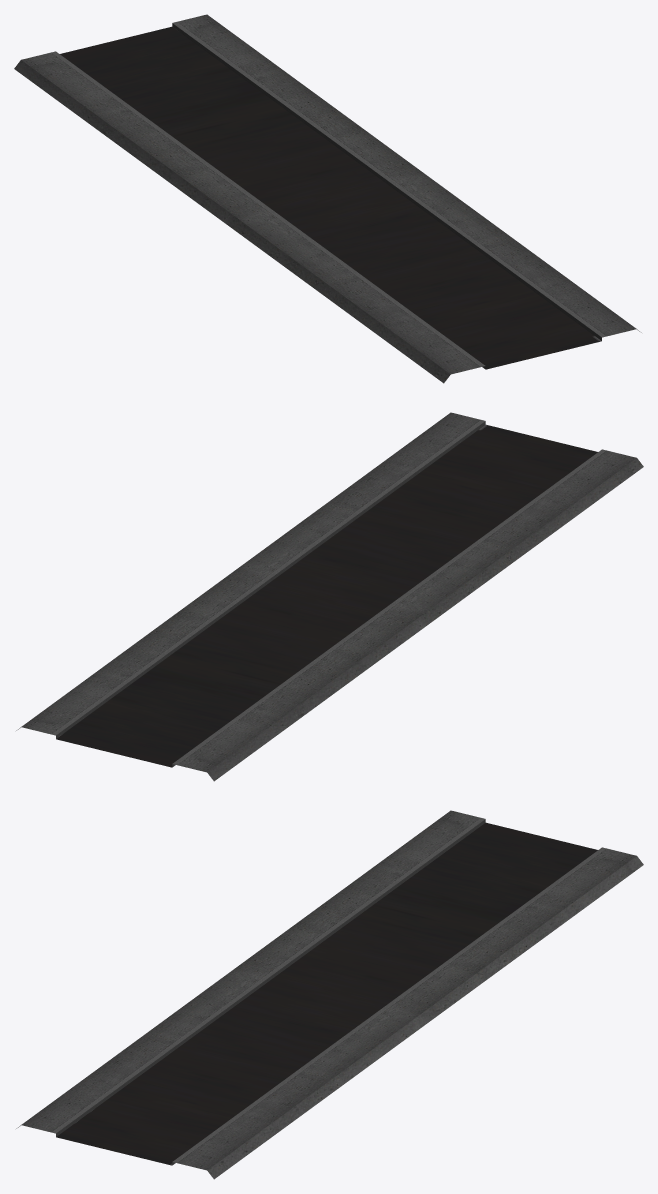
File: RJs_Road 1+1 Basic Node_A.fbx
3 views of the same model, one above another, from view 1: azimuth 30°, elevation 25°; view 2: azimuth 150°, elevation 25°; view 3: azimuth 330°, elevation 25° (orthographic).
Parts seen in each view (by area): view 1: plane; view 2: plane; view 3: plane.
Part boxes in pixels (<box>): plane: <box>14,14,641,383</box>; plane: <box>16,412,643,781</box>; plane: <box>16,810,643,1179</box>.
Bounding box in the file's own units: 1720 × 60.1 × 6400.
